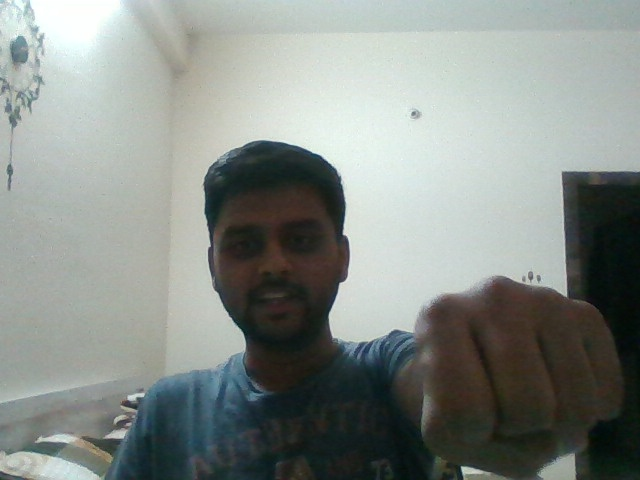yes: (372, 261, 633, 472)
